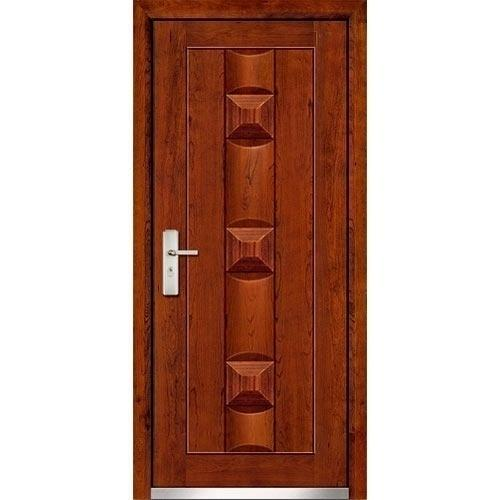door: (142, 5, 346, 493)
